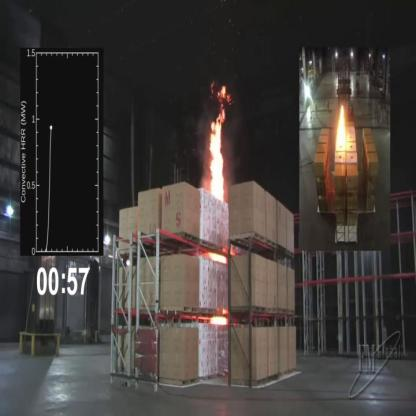fire: (207, 79, 232, 209)
